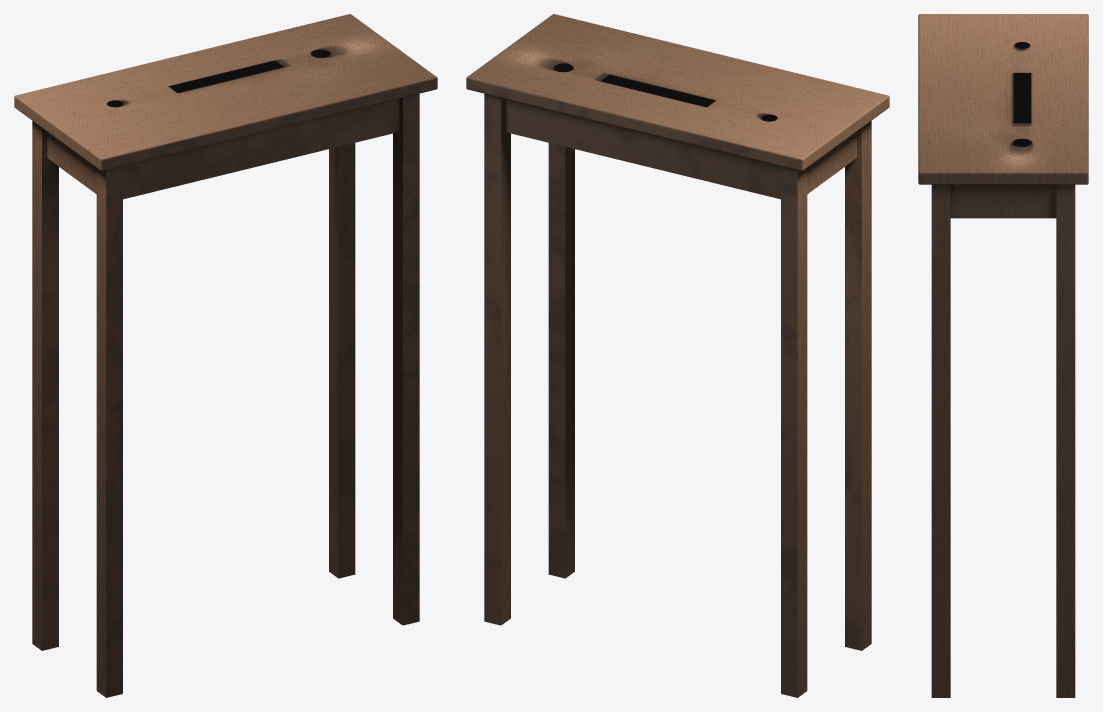
Rendered from 401_noble.glb.
3 renders of one model, left to right at view 1: azimuth 30°, elevation 25°; view 2: azimuth 150°, elevation 25°; view 3: azimuth 270°, elevation 25°, orthographic. The views are drawn at different scales.
Parts seen in each view (by area): view 1: Table; view 2: Table; view 3: Table.
Part boxes in pixels (box(x1,y1,x2,y2)): Table: box(14, 14, 437, 697); Table: box(466, 14, 889, 697); Table: box(918, 14, 1088, 697).
Size of what is drawn, in the model's own units: 2 by 3.1 by 0.9.
1 material, 1 textured.
